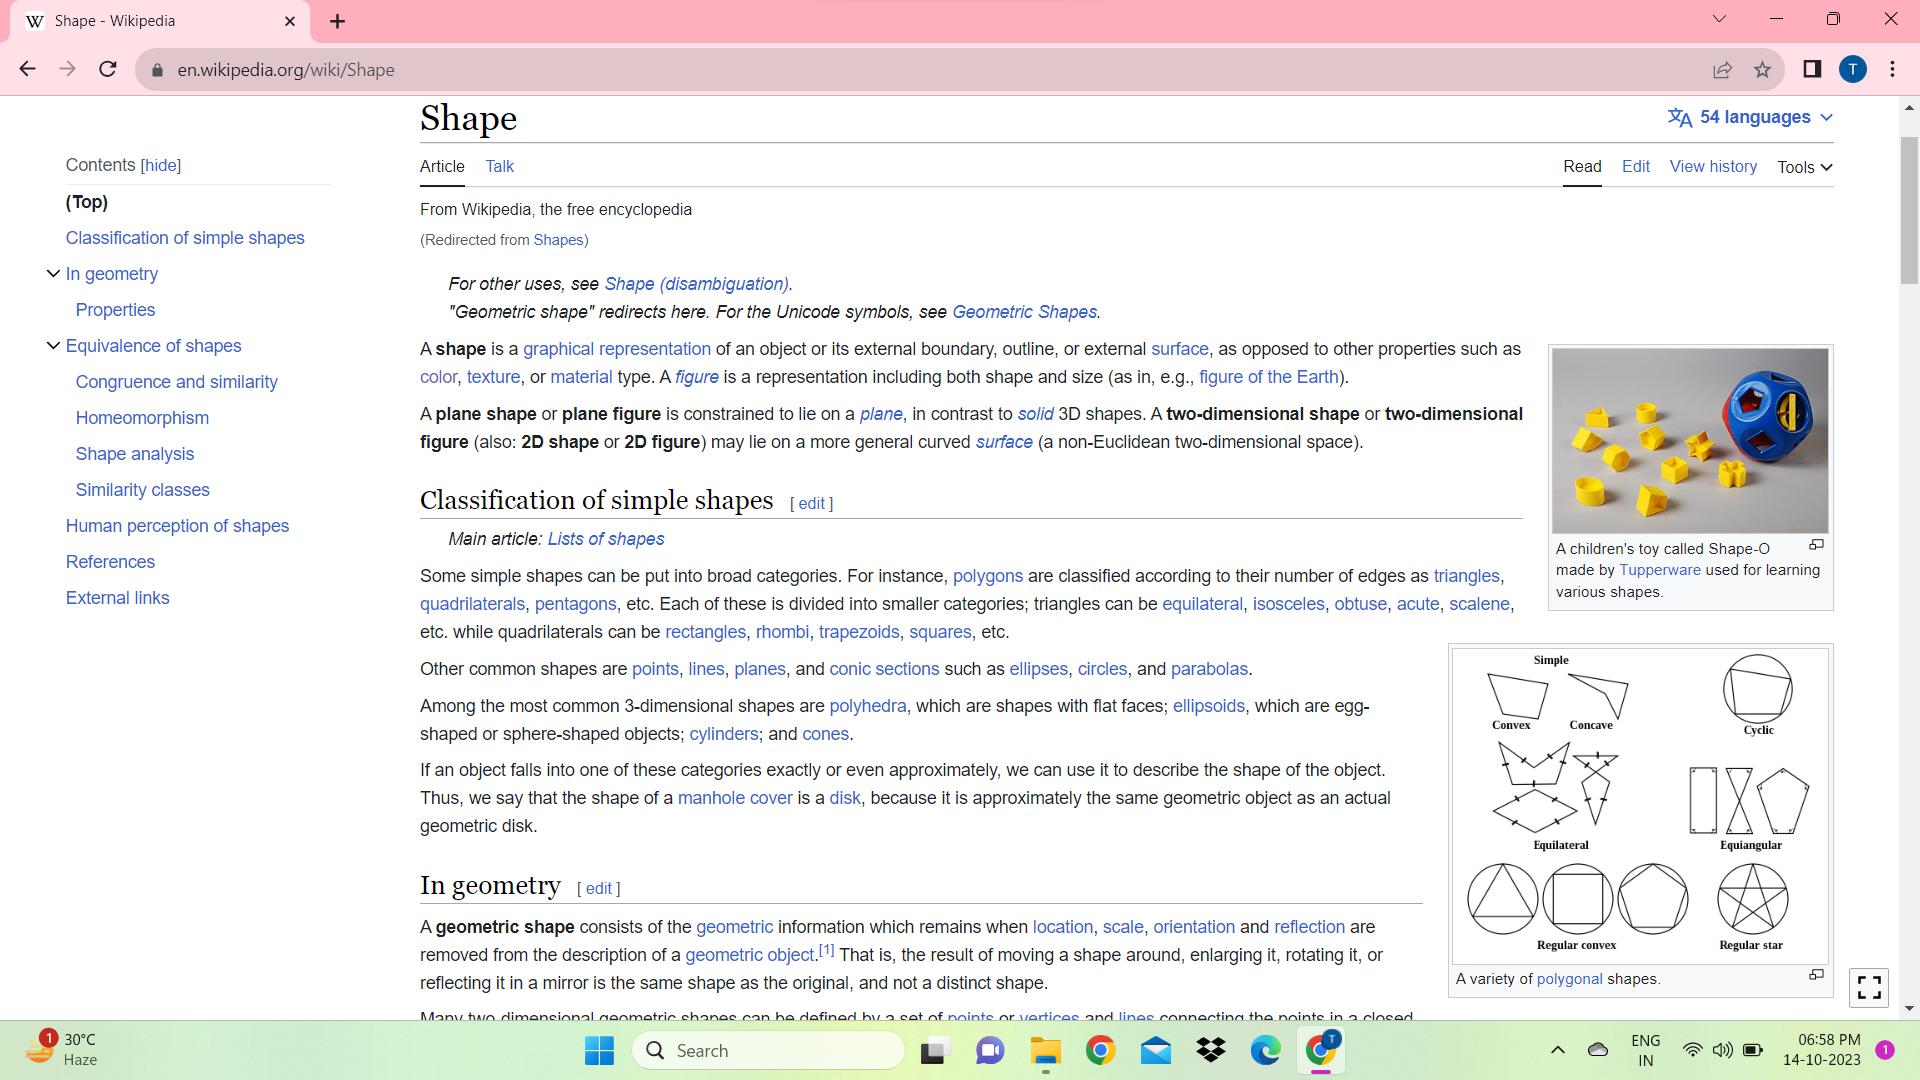Image: (1458, 655, 1849, 960), (1553, 339, 1840, 530)
Paragraph: (404, 550, 1536, 649), (386, 757, 1428, 839), (400, 916, 1431, 997), (397, 397, 1538, 462), (404, 332, 1538, 393), (404, 686, 1387, 742), (421, 264, 1303, 323), (400, 651, 1259, 684), (407, 194, 720, 251), (404, 479, 791, 516), (58, 220, 335, 257), (440, 516, 688, 556), (61, 316, 257, 364), (47, 506, 328, 537), (388, 865, 641, 898), (58, 574, 196, 617), (58, 404, 233, 434), (411, 102, 533, 145), (57, 149, 199, 173)
